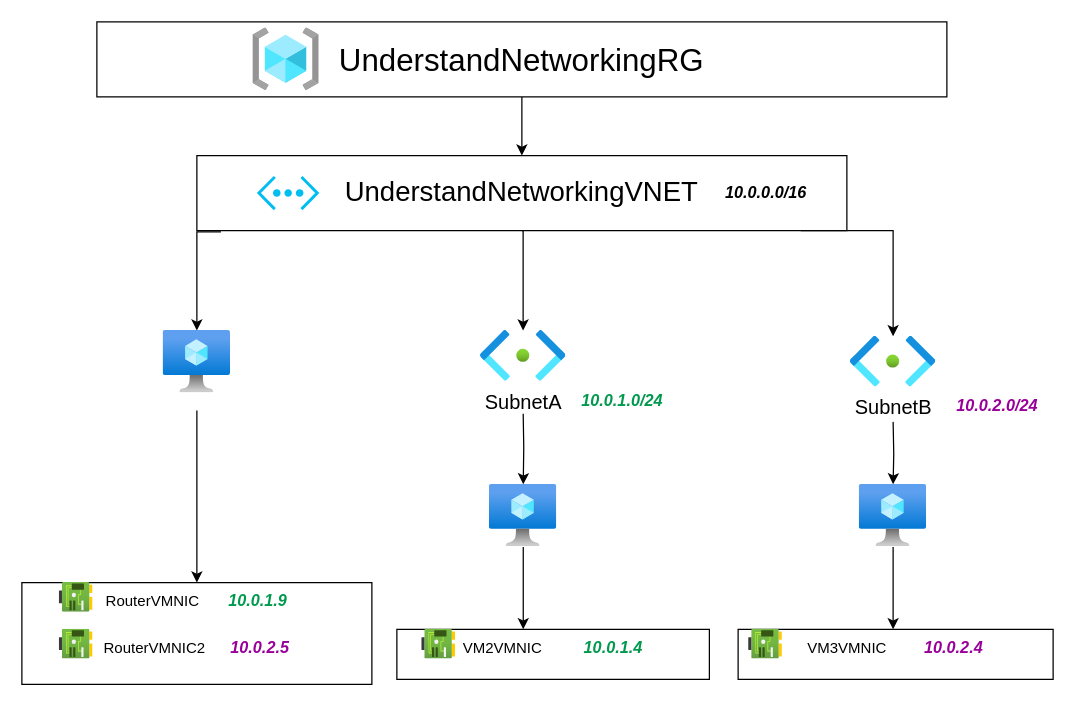
Some shapes in this 1075 by 706 pixel diagram are drawn without their labels. Here are the shapes that lost their labels. From the top down, the centre of each, then its label:
At pixel 196 361: "RouterVM(VM1)".
At pixel 522 515: "VM2".
At pixel 892 515: "VM3".
